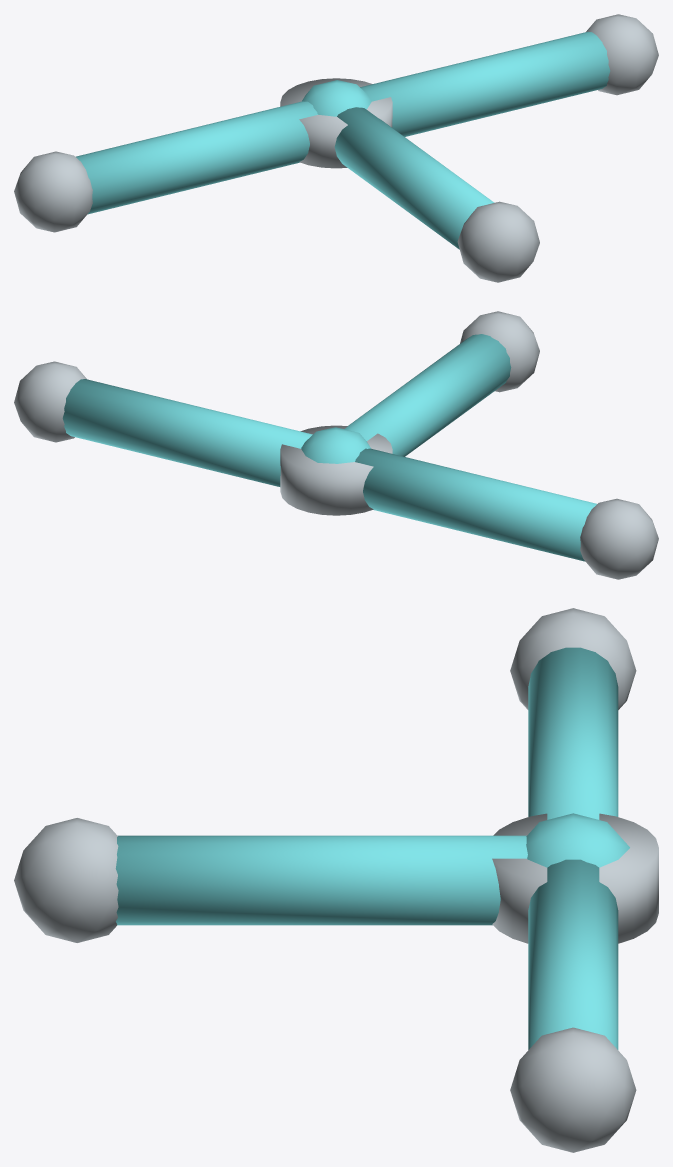
The model's file is conduit_tee_enhanced.glb.
3 views of the same model, one above another, from view 1: azimuth 30°, elevation 25°; view 2: azimuth 150°, elevation 25°; view 3: azimuth 270°, elevation 25° (orthographic). The views are drawn at different scales.
Parts seen in each view (by area): view 1: Conduit_cyan, Coupler_steel, JunctionCap_steel, Junction_cyan; view 2: Conduit_cyan, Coupler_steel, JunctionCap_steel, Junction_cyan; view 3: Conduit_cyan, Coupler_steel, JunctionCap_steel, Junction_cyan.
Part boxes in pixels (x1,y1,x2,y2): Conduit_cyan: (76,31,610,249); Coupler_steel: (14,14,658,282); JunctionCap_steel: (280,78,392,168); Junction_cyan: (302,80,371,116); Conduit_cyan: (62,334,596,561); Coupler_steel: (14,311,658,579); JunctionCap_steel: (280,425,392,515); Junction_cyan: (301,427,370,463); Conduit_cyan: (115,647,618,1049); Coupler_steel: (14,608,636,1152); JunctionCap_steel: (492,813,658,943); Junction_cyan: (526,813,629,867).
Bounding box in the file's own units: 2.48 × 0.3 × 1.43.
